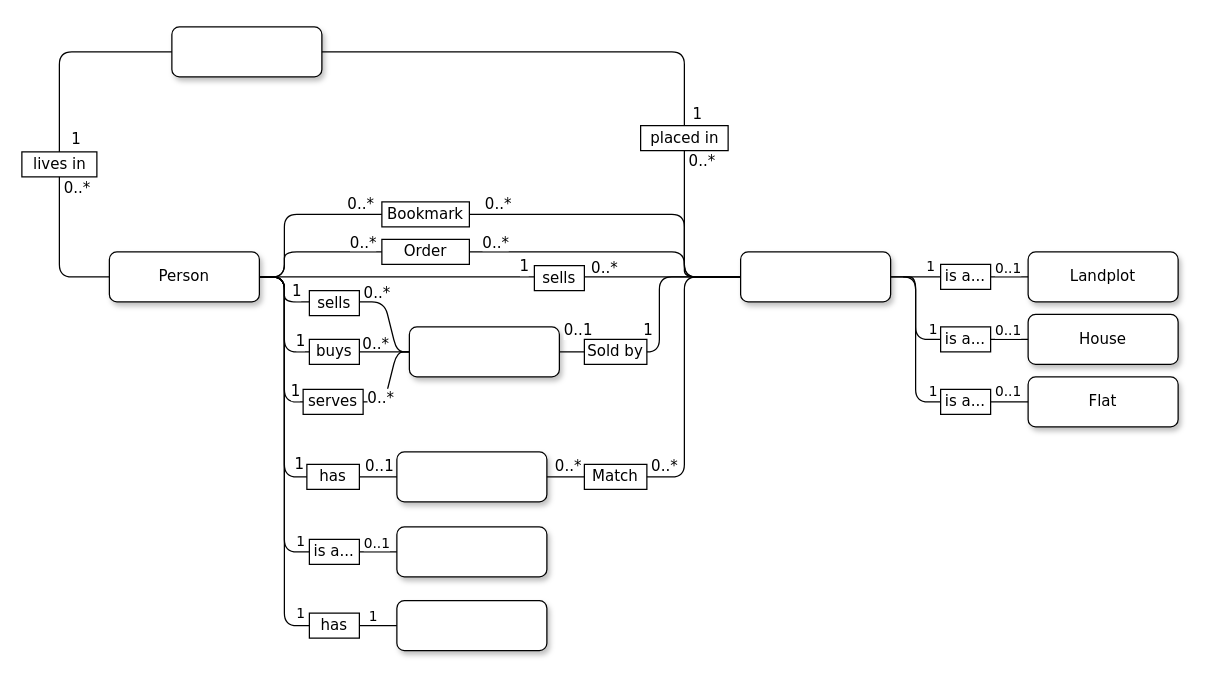
Image size: 1208x681. Some labels were removed from this diagram. Each missing label, with the centre of its shape:
Agent: (472,553)
ClientWish: (472,478)
Credential: (472,626)
Deal: (485,353)
EstateObject: (816,278)
Location: (247,53)
